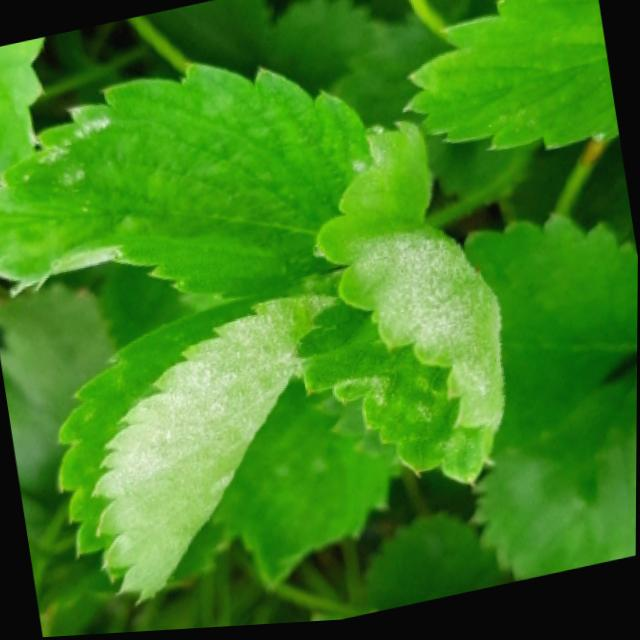Powdery Mildew Leaf: (0, 63, 380, 304), (58, 283, 337, 609), (292, 125, 506, 490)
